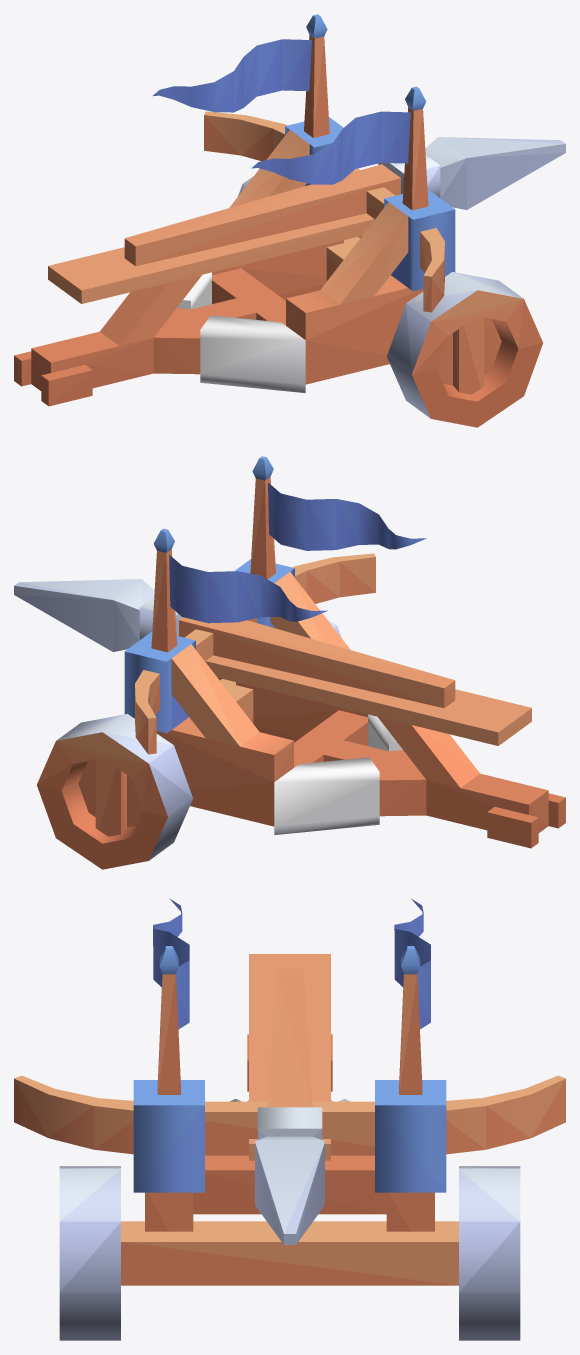
The model's file is kenney_castle_siege_ballista.glb.
3 renders of one model, top to bottom at view 1: azimuth 30°, elevation 25°; view 2: azimuth 150°, elevation 25°; view 3: azimuth 270°, elevation 25°, orthographic. The views are drawn at different scales.
Visible parts, largest first — view 1: wood, cloth, metal, stone; view 2: wood, cloth, metal, stone; view 3: cloth, wood, metal, stone.
Boxes of the visible parts, x1,y1,x2,y2 form: wood: (14, 35, 542, 427); cloth: (48, 14, 565, 321); metal: (177, 137, 565, 392); stone: (238, 184, 430, 418); wood: (37, 477, 565, 869); cloth: (20, 456, 531, 763); metal: (14, 582, 402, 834); stone: (149, 764, 192, 860); cloth: (14, 898, 565, 1285); wood: (14, 974, 565, 1285); metal: (59, 1099, 520, 1292); stone: (59, 1222, 520, 1340).
Bounding box in the file's own units: 1.63 × 0.9103 × 1.2.
